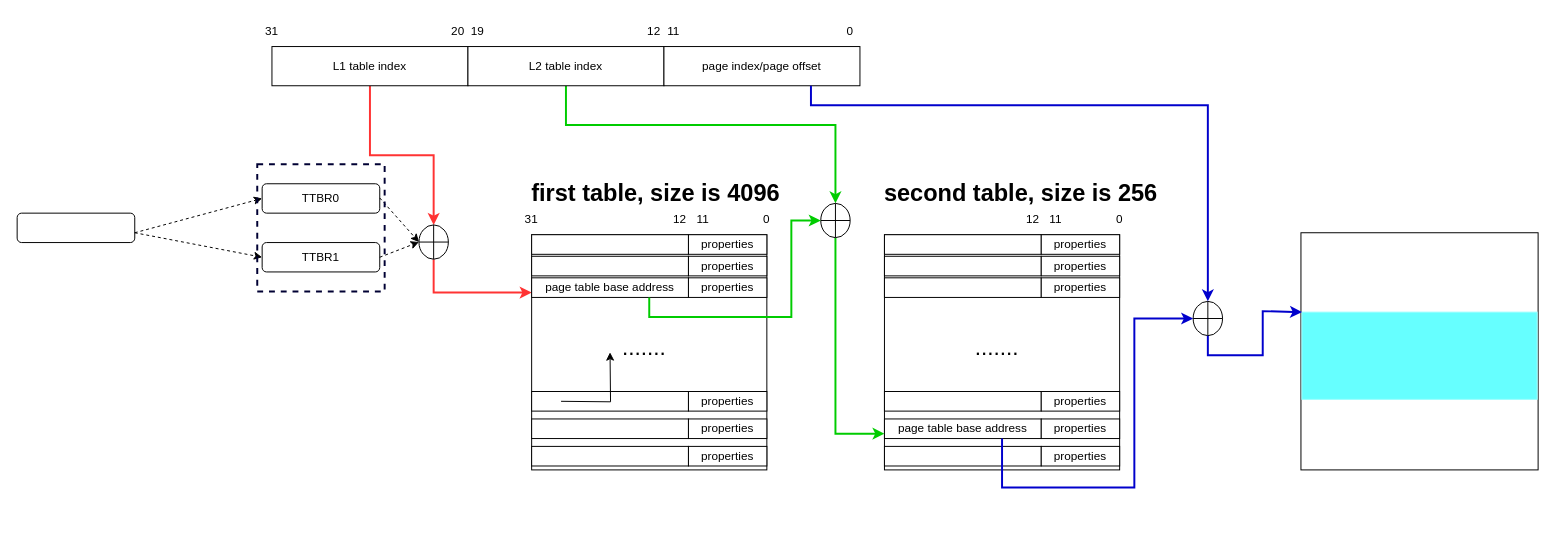
This 1555x535 diagram has some shape labels left out. Here are the shapes that lost their labels. From the top down, the centre of each, then its label:
At point (75, 227): "TTBCR/TTBCR.N".
At point (1419, 355): "memory needed".
